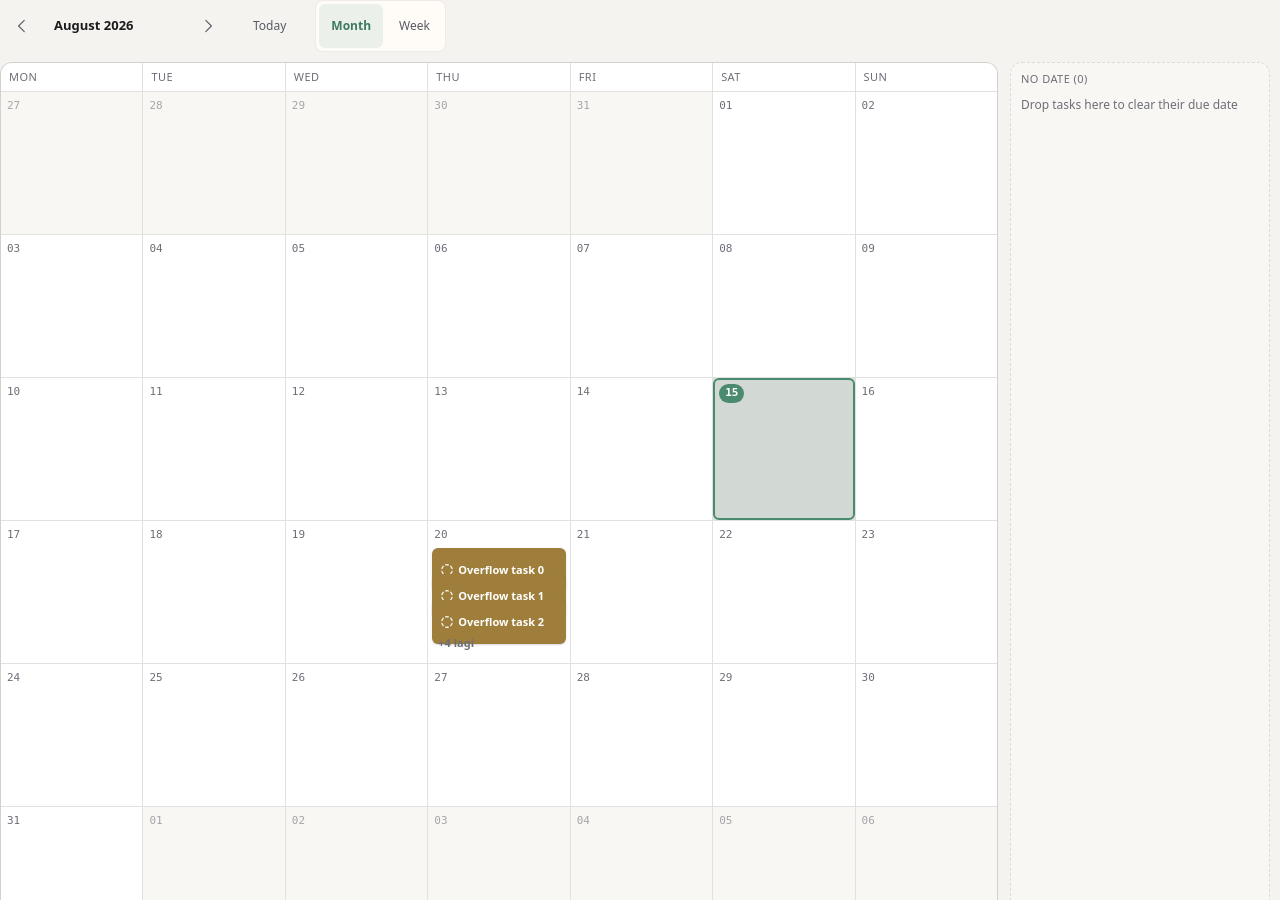
Test: DueCalendar › expands row height when lihat yang lain clicked
Click the button "+4 lagi": (499, 643) [432,632,566,654]
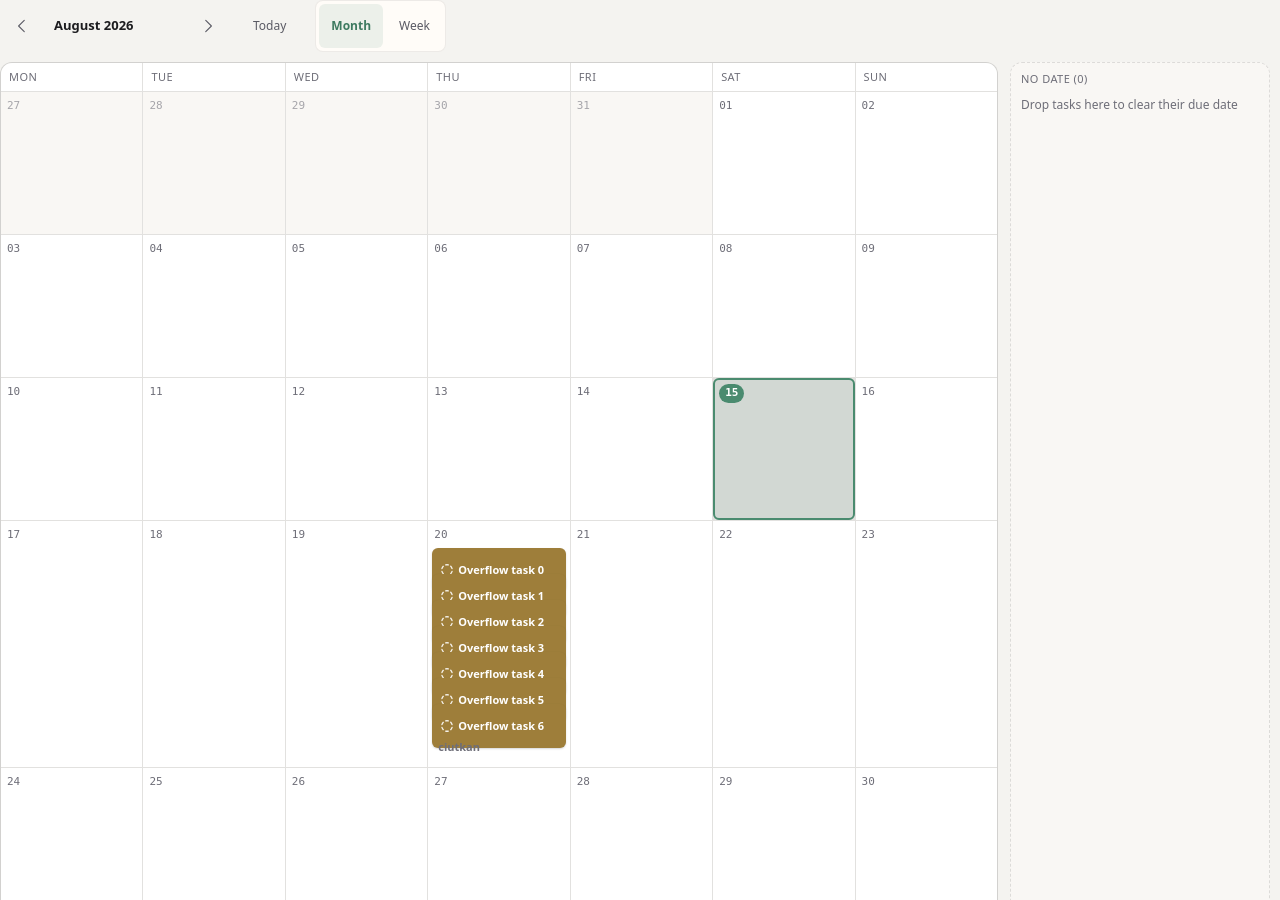
Expected: the number of buttons with class "due-cal-span" is 7
Expected: the button "ciutkan" is shown
Note: collapse again
Click the button "ciutkan": (499, 747) [432,736,566,758]
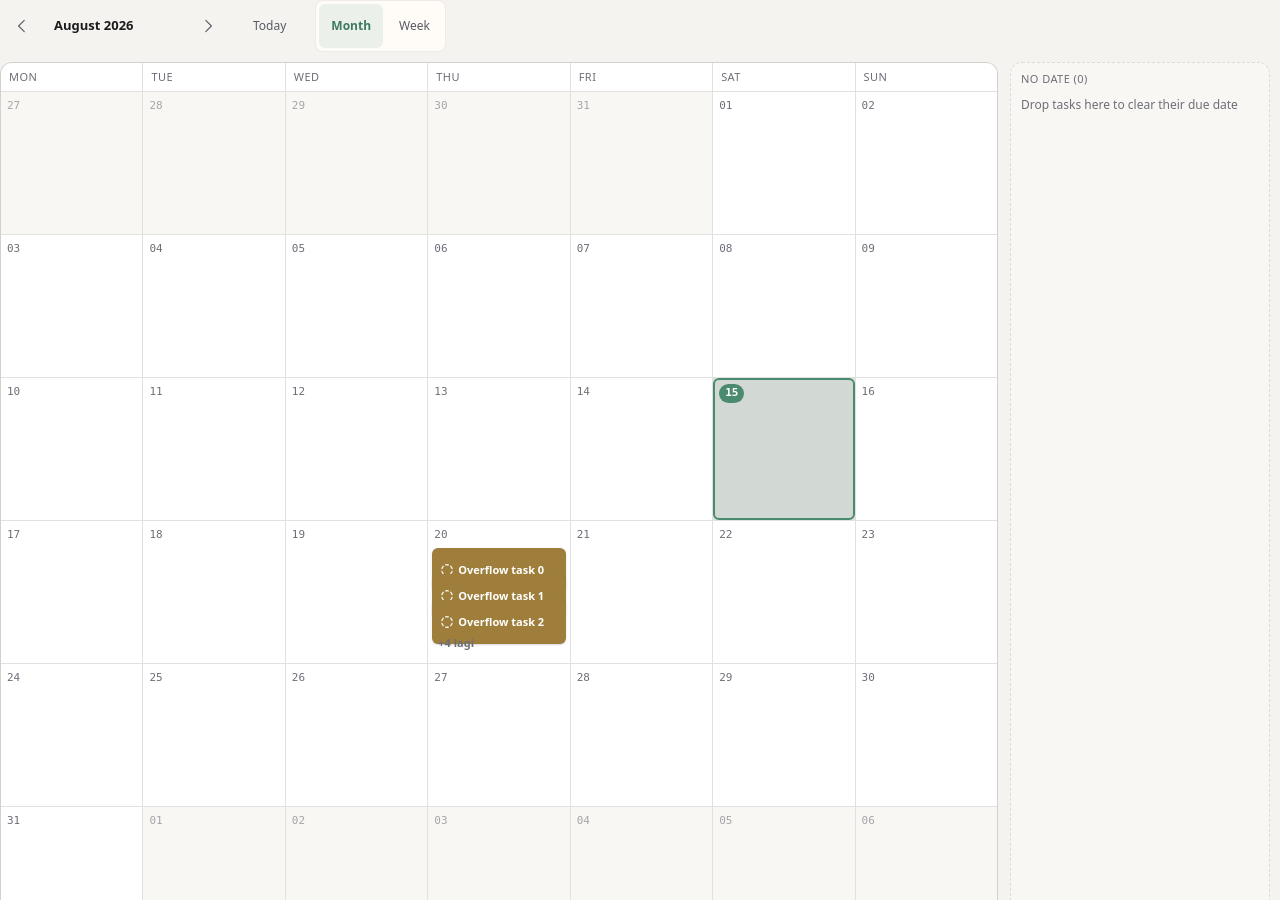
Expected: the button "+4 lagi" is shown, [432,632,566,654]
